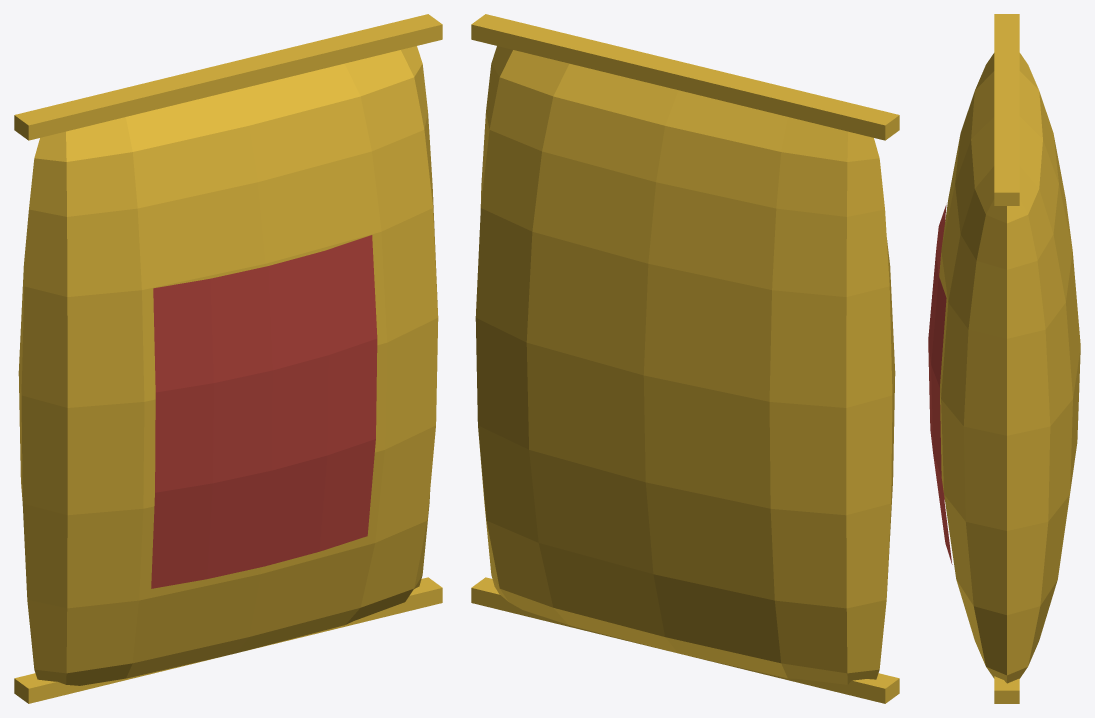
Rendered from FD_ChipsBag_01.glb.
3 renders of one model, left to right at view 1: azimuth 30°, elevation 25°; view 2: azimuth 150°, elevation 25°; view 3: azimuth 270°, elevation 25°, orthographic. The views are drawn at different scales.
Visible parts, largest first — view 1: FD_ChipsBag_01; view 2: FD_ChipsBag_01; view 3: FD_ChipsBag_01.
Boxes of the visible parts, x1=… form: FD_ChipsBag_01: x1=14, y1=14, x2=442, y2=703; FD_ChipsBag_01: x1=471, y1=14, x2=899, y2=703; FD_ChipsBag_01: x1=928, y1=14, x2=1080, y2=703.
Size of the model in its own units: 0.2 by 0.267 by 0.0722.
1 material, 1 textured.
